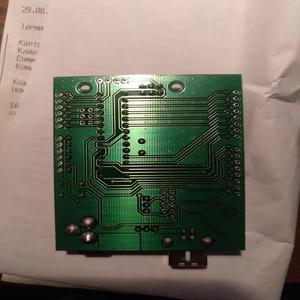duino: (52, 55, 247, 271)
